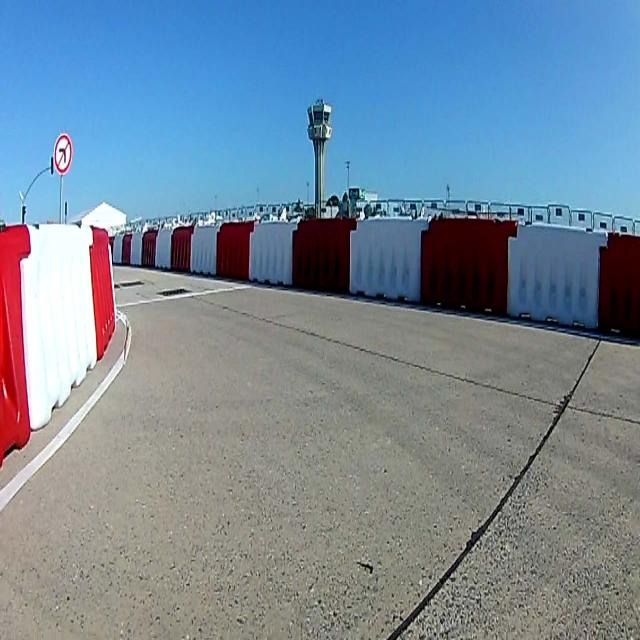soladonulmez: (54, 135, 72, 173)
